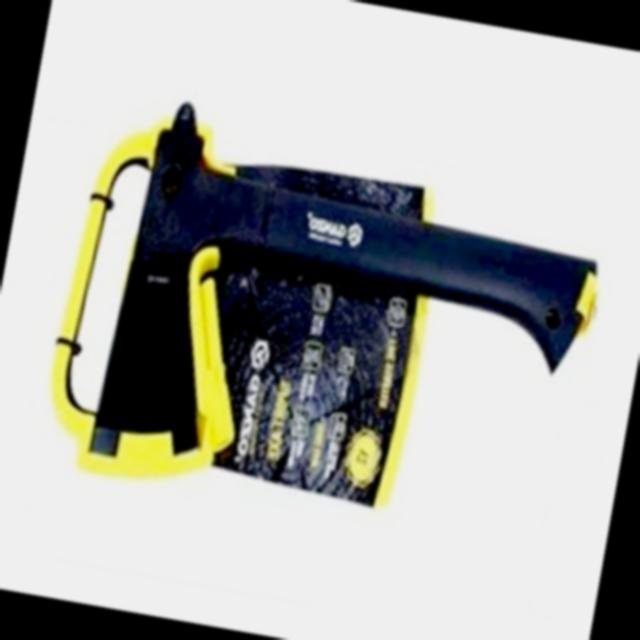ax: (22, 76, 633, 569)
